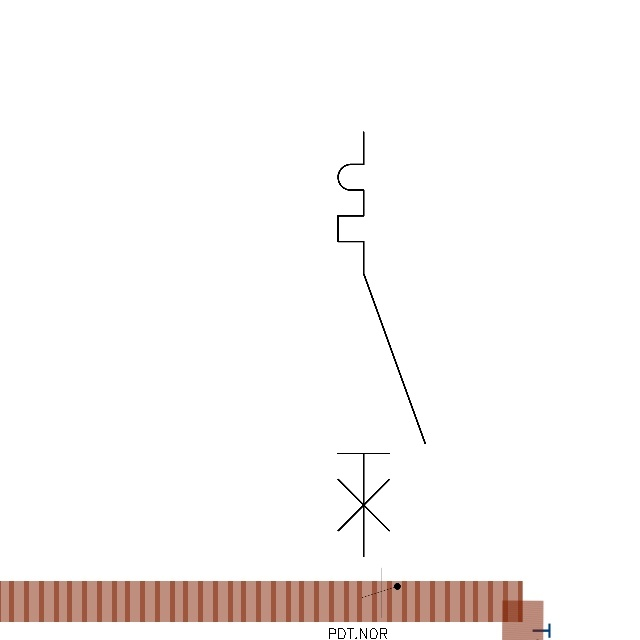interruptor_termomagnetico: (327, 121, 436, 568)
